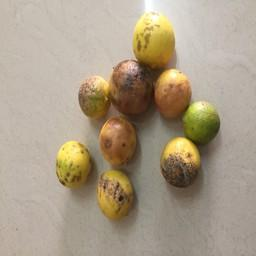Bad_lime: (109, 59, 154, 116), (136, 10, 177, 67), (161, 136, 204, 189), (96, 170, 138, 224), (96, 122, 139, 172), (52, 142, 93, 187), (156, 66, 190, 120), (76, 75, 109, 118)
